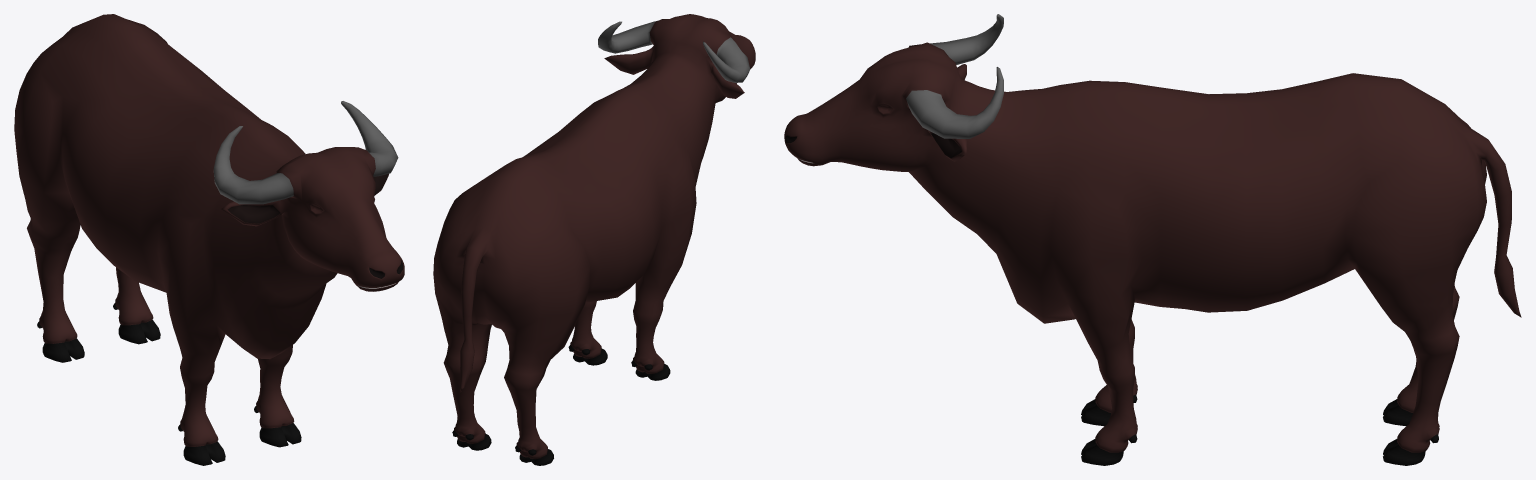
The model's file is water_buffalo_water_buffalo.obj.
3 views of the same model, side by side, from view 1: azimuth 30°, elevation 25°; view 2: azimuth 150°, elevation 25°; view 3: azimuth 270°, elevation 25° (orthographic). The views are drawn at different scales.
Visible parts, largest first — view 1: water_buffalo; view 2: water_buffalo; view 3: water_buffalo.
Part boxes in pixels (x1,y1,x2,y2): water_buffalo: [14, 14, 404, 465]; water_buffalo: [433, 14, 755, 465]; water_buffalo: [784, 14, 1521, 465].
Bounding box in the file's own units: 0.803 × 1.57 × 2.65.
